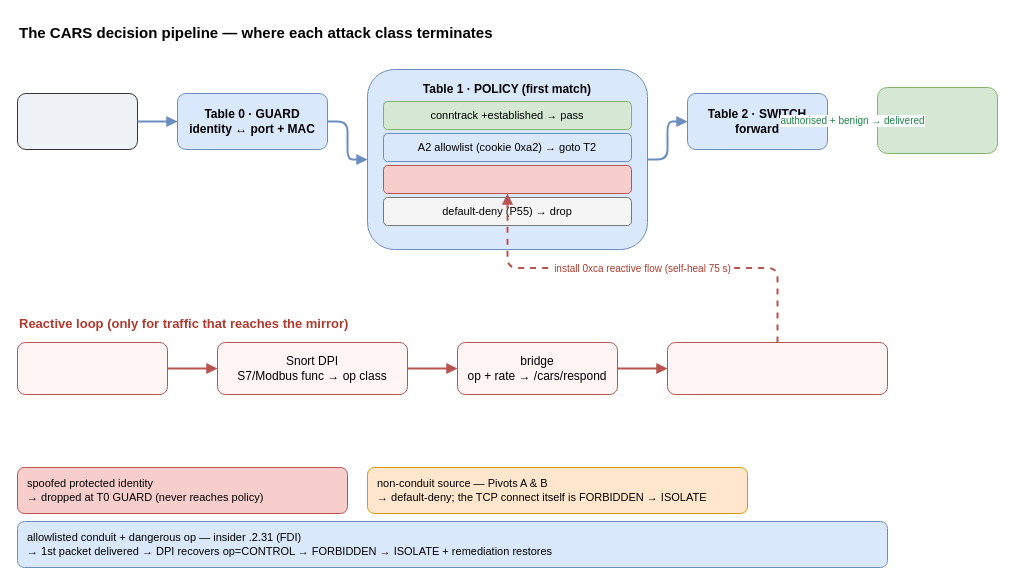
Some shapes in this 1015 by 585 pixel diagram are drawn without their labels. The centre of each missing label's shape, as x and y in pixels:
"brain: classify() + select_response() tier → response (REFUSE…ISOLATE)" goes at point (777, 368).
"ovsgw mirror SPAN → snort0" goes at point (92, 368).
"packet from source" goes at point (77, 121).
"PLC1 .2.10 CRITICAL" goes at point (937, 120).
"reactive block/isolate (0xca, P100–110)" goes at point (507, 179).
